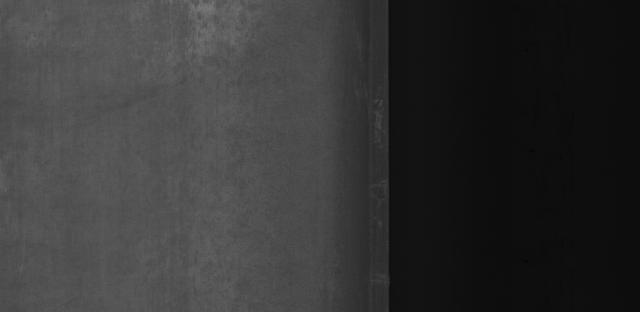silk_spot: (162, 184, 263, 284), (161, 20, 256, 85), (169, 122, 261, 157)
